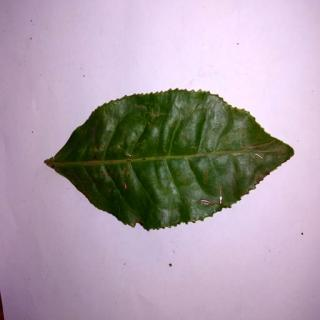Bird Eye Spot: (46, 91, 297, 235)
